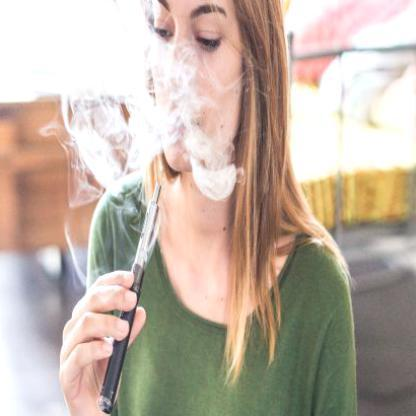cigarette: (95, 181, 162, 415)
person: (91, 0, 336, 415)
smoke: (66, 110, 234, 207), (164, 43, 201, 100)
